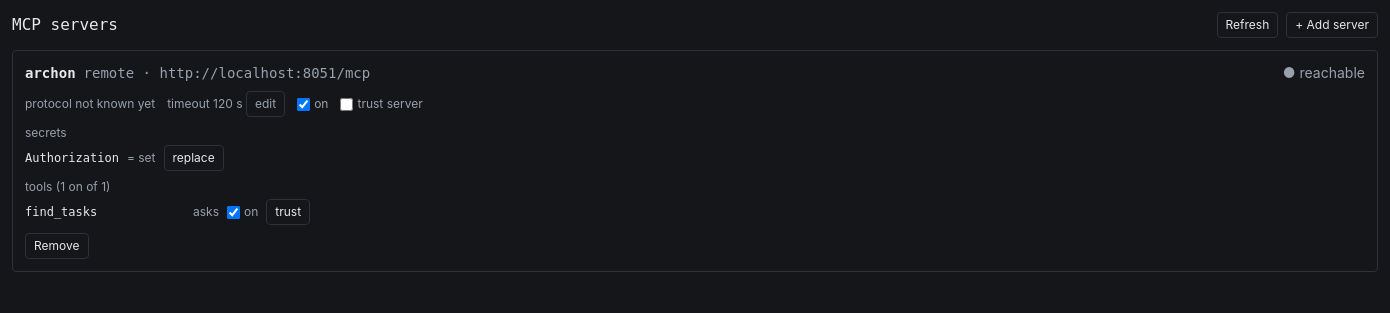
Test: shows a 403 reason next to the control
Step 1. Click the checkbox named "archon on" → (304, 104), box 297,98 -> 310,110
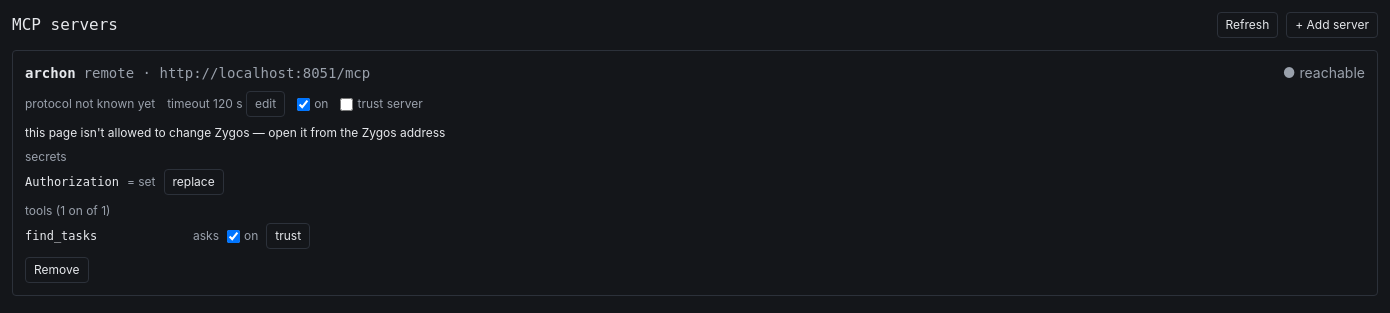
expect the text "this page isn't allowed to change Zygos — open it from the Zygos address" is shown: met, box 25,125 -> 445,140
